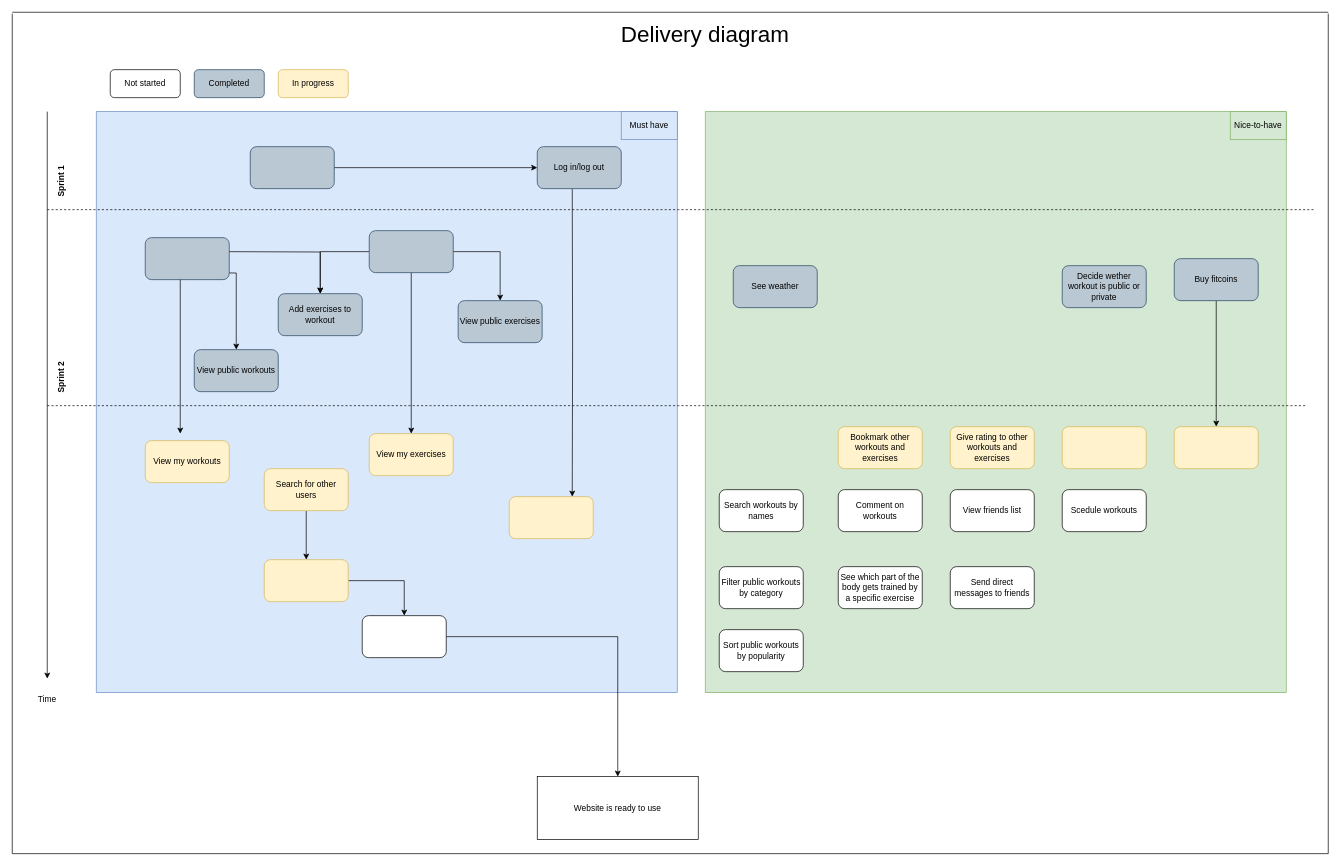
The diagram is 1341 pixels wide and 867 high, and some of its shapes have lost their labels. Here are the shapes that lost their labels. From the top down, the centre of each, then its label:
At point (292, 167): "Create account".
At point (187, 258): "Create workout".
At point (411, 251): "Create exercise".
At point (1104, 447): "Delete my workouts".
At point (1216, 447): "Donate money to workout creators".
At point (551, 517): "View my profile".
At point (306, 580): "Add friends".
At point (404, 636): "Create challenges and tag friends".
